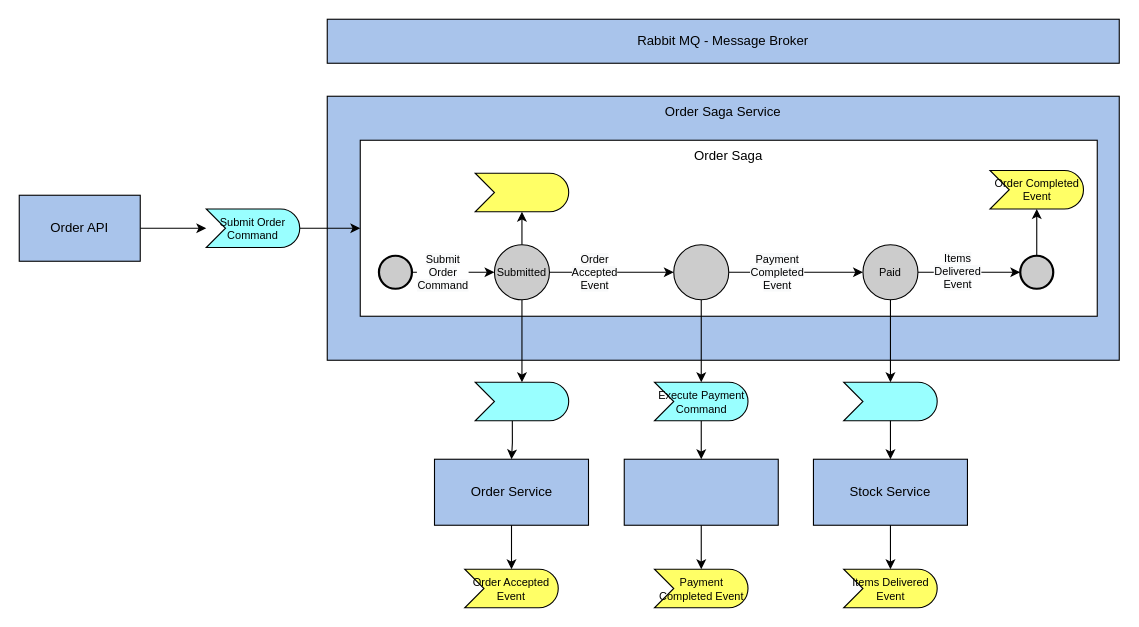
The diagram is 1139 pixels wide and 627 high, and some of its shapes have lost their labels. The shapes that lost their labels are listed below. From the top down, each one's centre as x and y in pixels, then its label:
the point at 521,192: Order Received Event
the point at 395,271: Initial
the point at 701,272: Accepted
the point at 1036,271: End
the point at 521,401: Accept Order Command
the point at 890,401: Deliver Items Command
the point at 700,491: Payment Service
